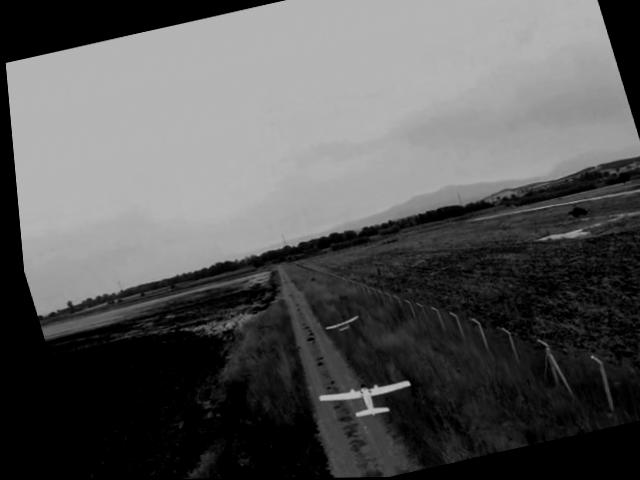hedef: (301, 357, 420, 444)
